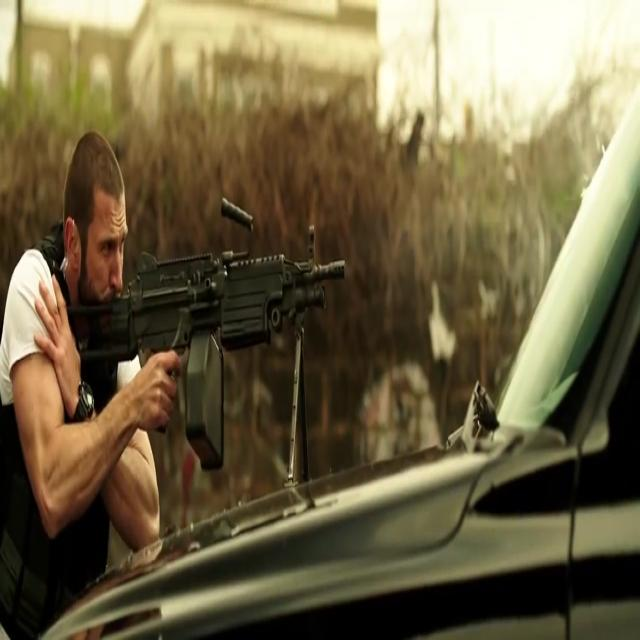Weapon: (64, 215, 355, 455)
